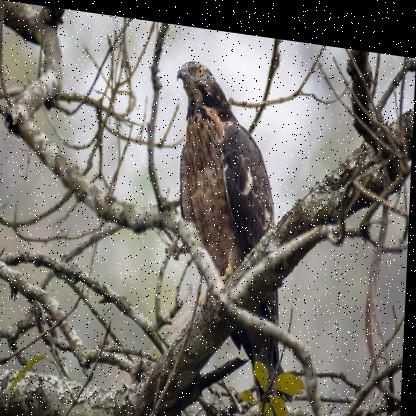Burung: (165, 54, 312, 415)
